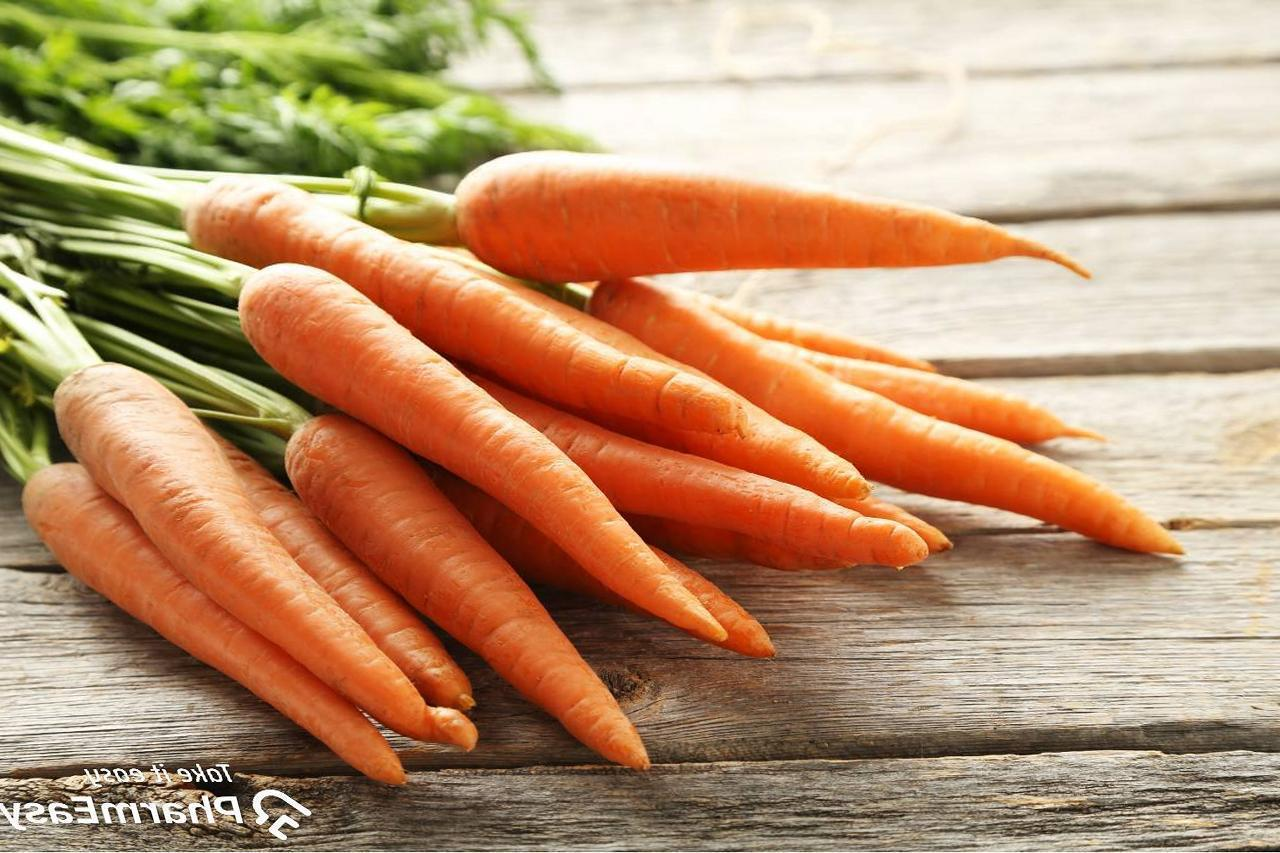carrot: (180, 130, 1207, 792), (415, 139, 1217, 635), (19, 336, 570, 788)
